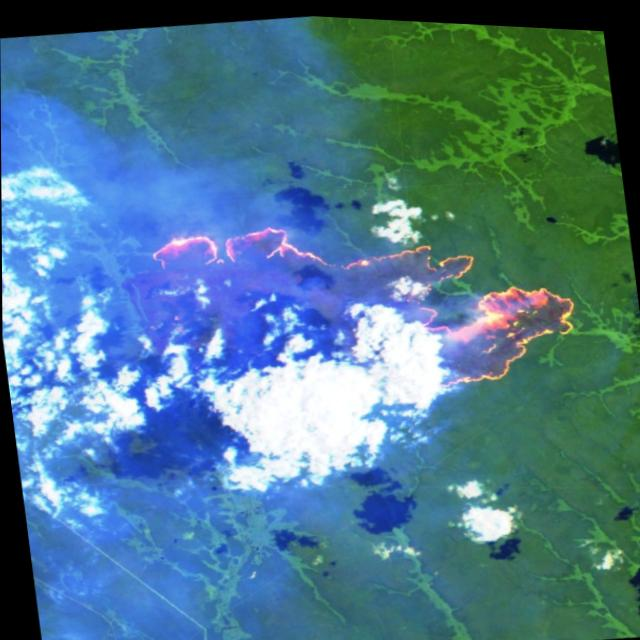fire: (139, 180, 590, 425)
